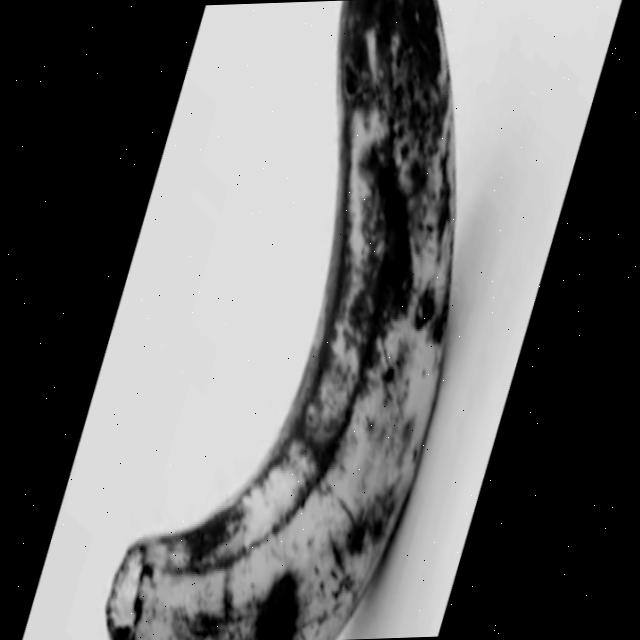overripe: (82, 0, 469, 640)
